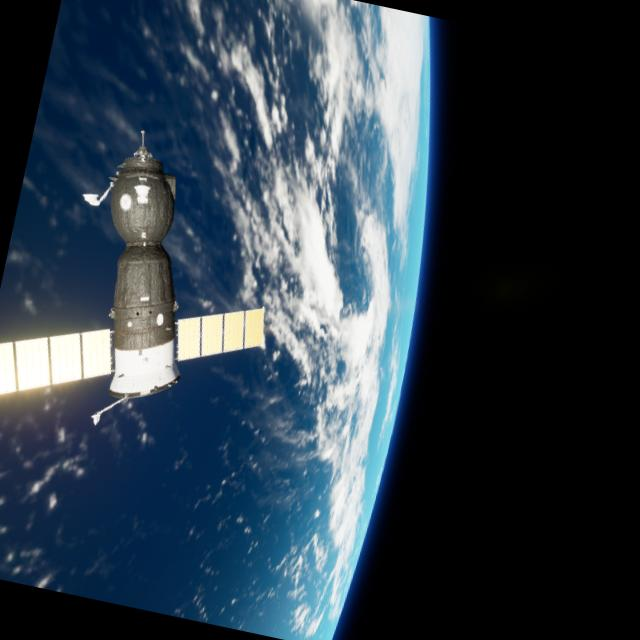Satellites revolving around earth: (0, 105, 306, 460)
